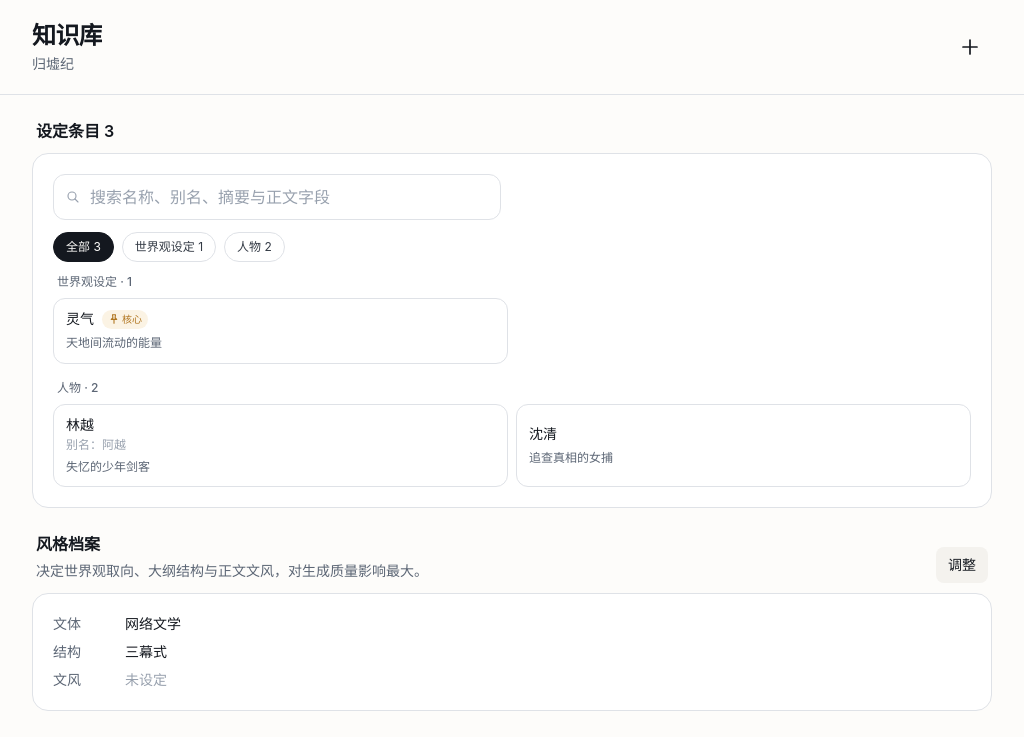
条目列表 › 按分类筛选
The image size is (1024, 737).
Click the button "人物 2". click: (254, 247)
box: left=224, top=232, right=285, bottom=262
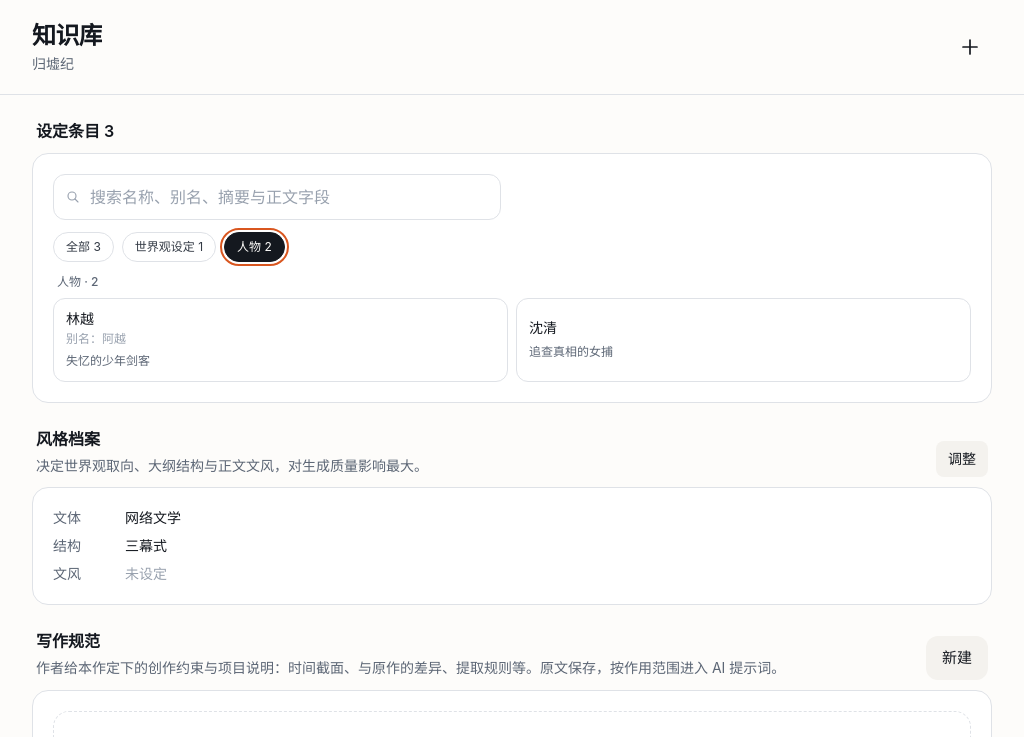
Expected: the text "林越" is shown, left=66, top=309, right=94, bottom=329
Expected: the button "灵气" is gone
Click the button "全部 3". click: (83, 247)
box: left=53, top=232, right=114, bottom=262
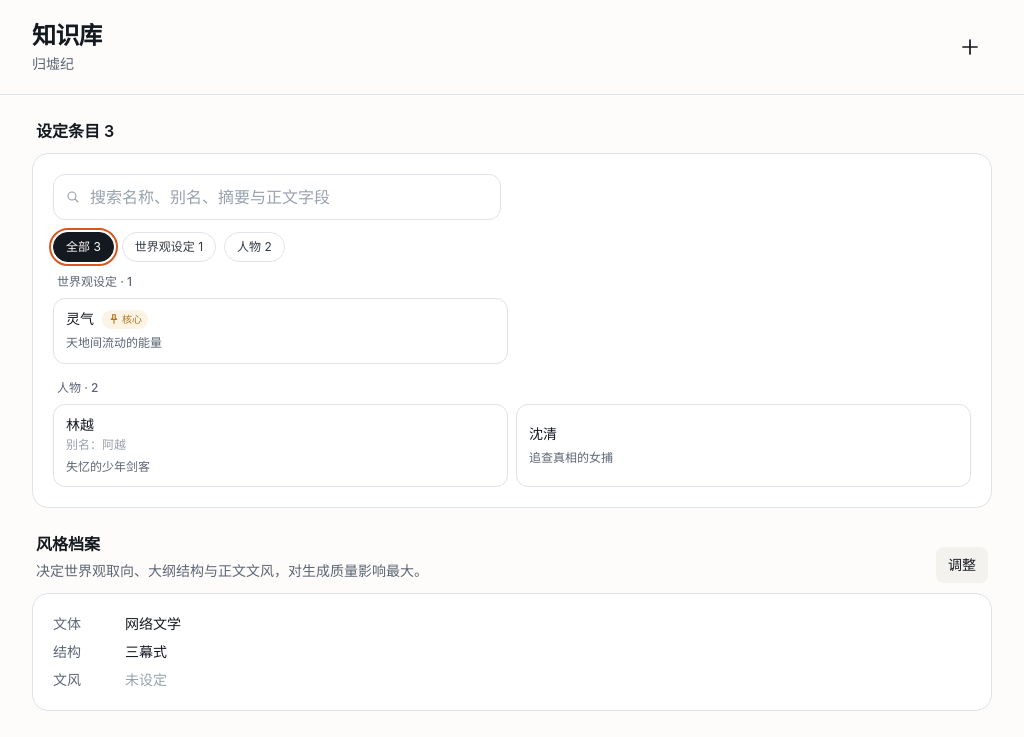
Expected: the text "灵气" is shown, left=66, top=309, right=94, bottom=329
